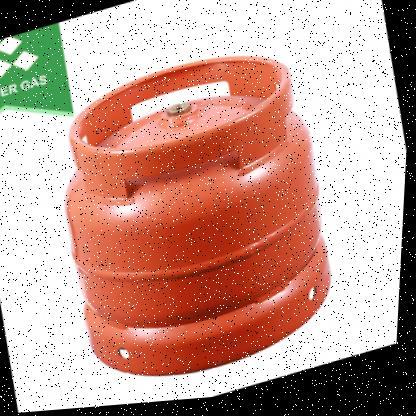gas-tank: (7, 5, 382, 413)
